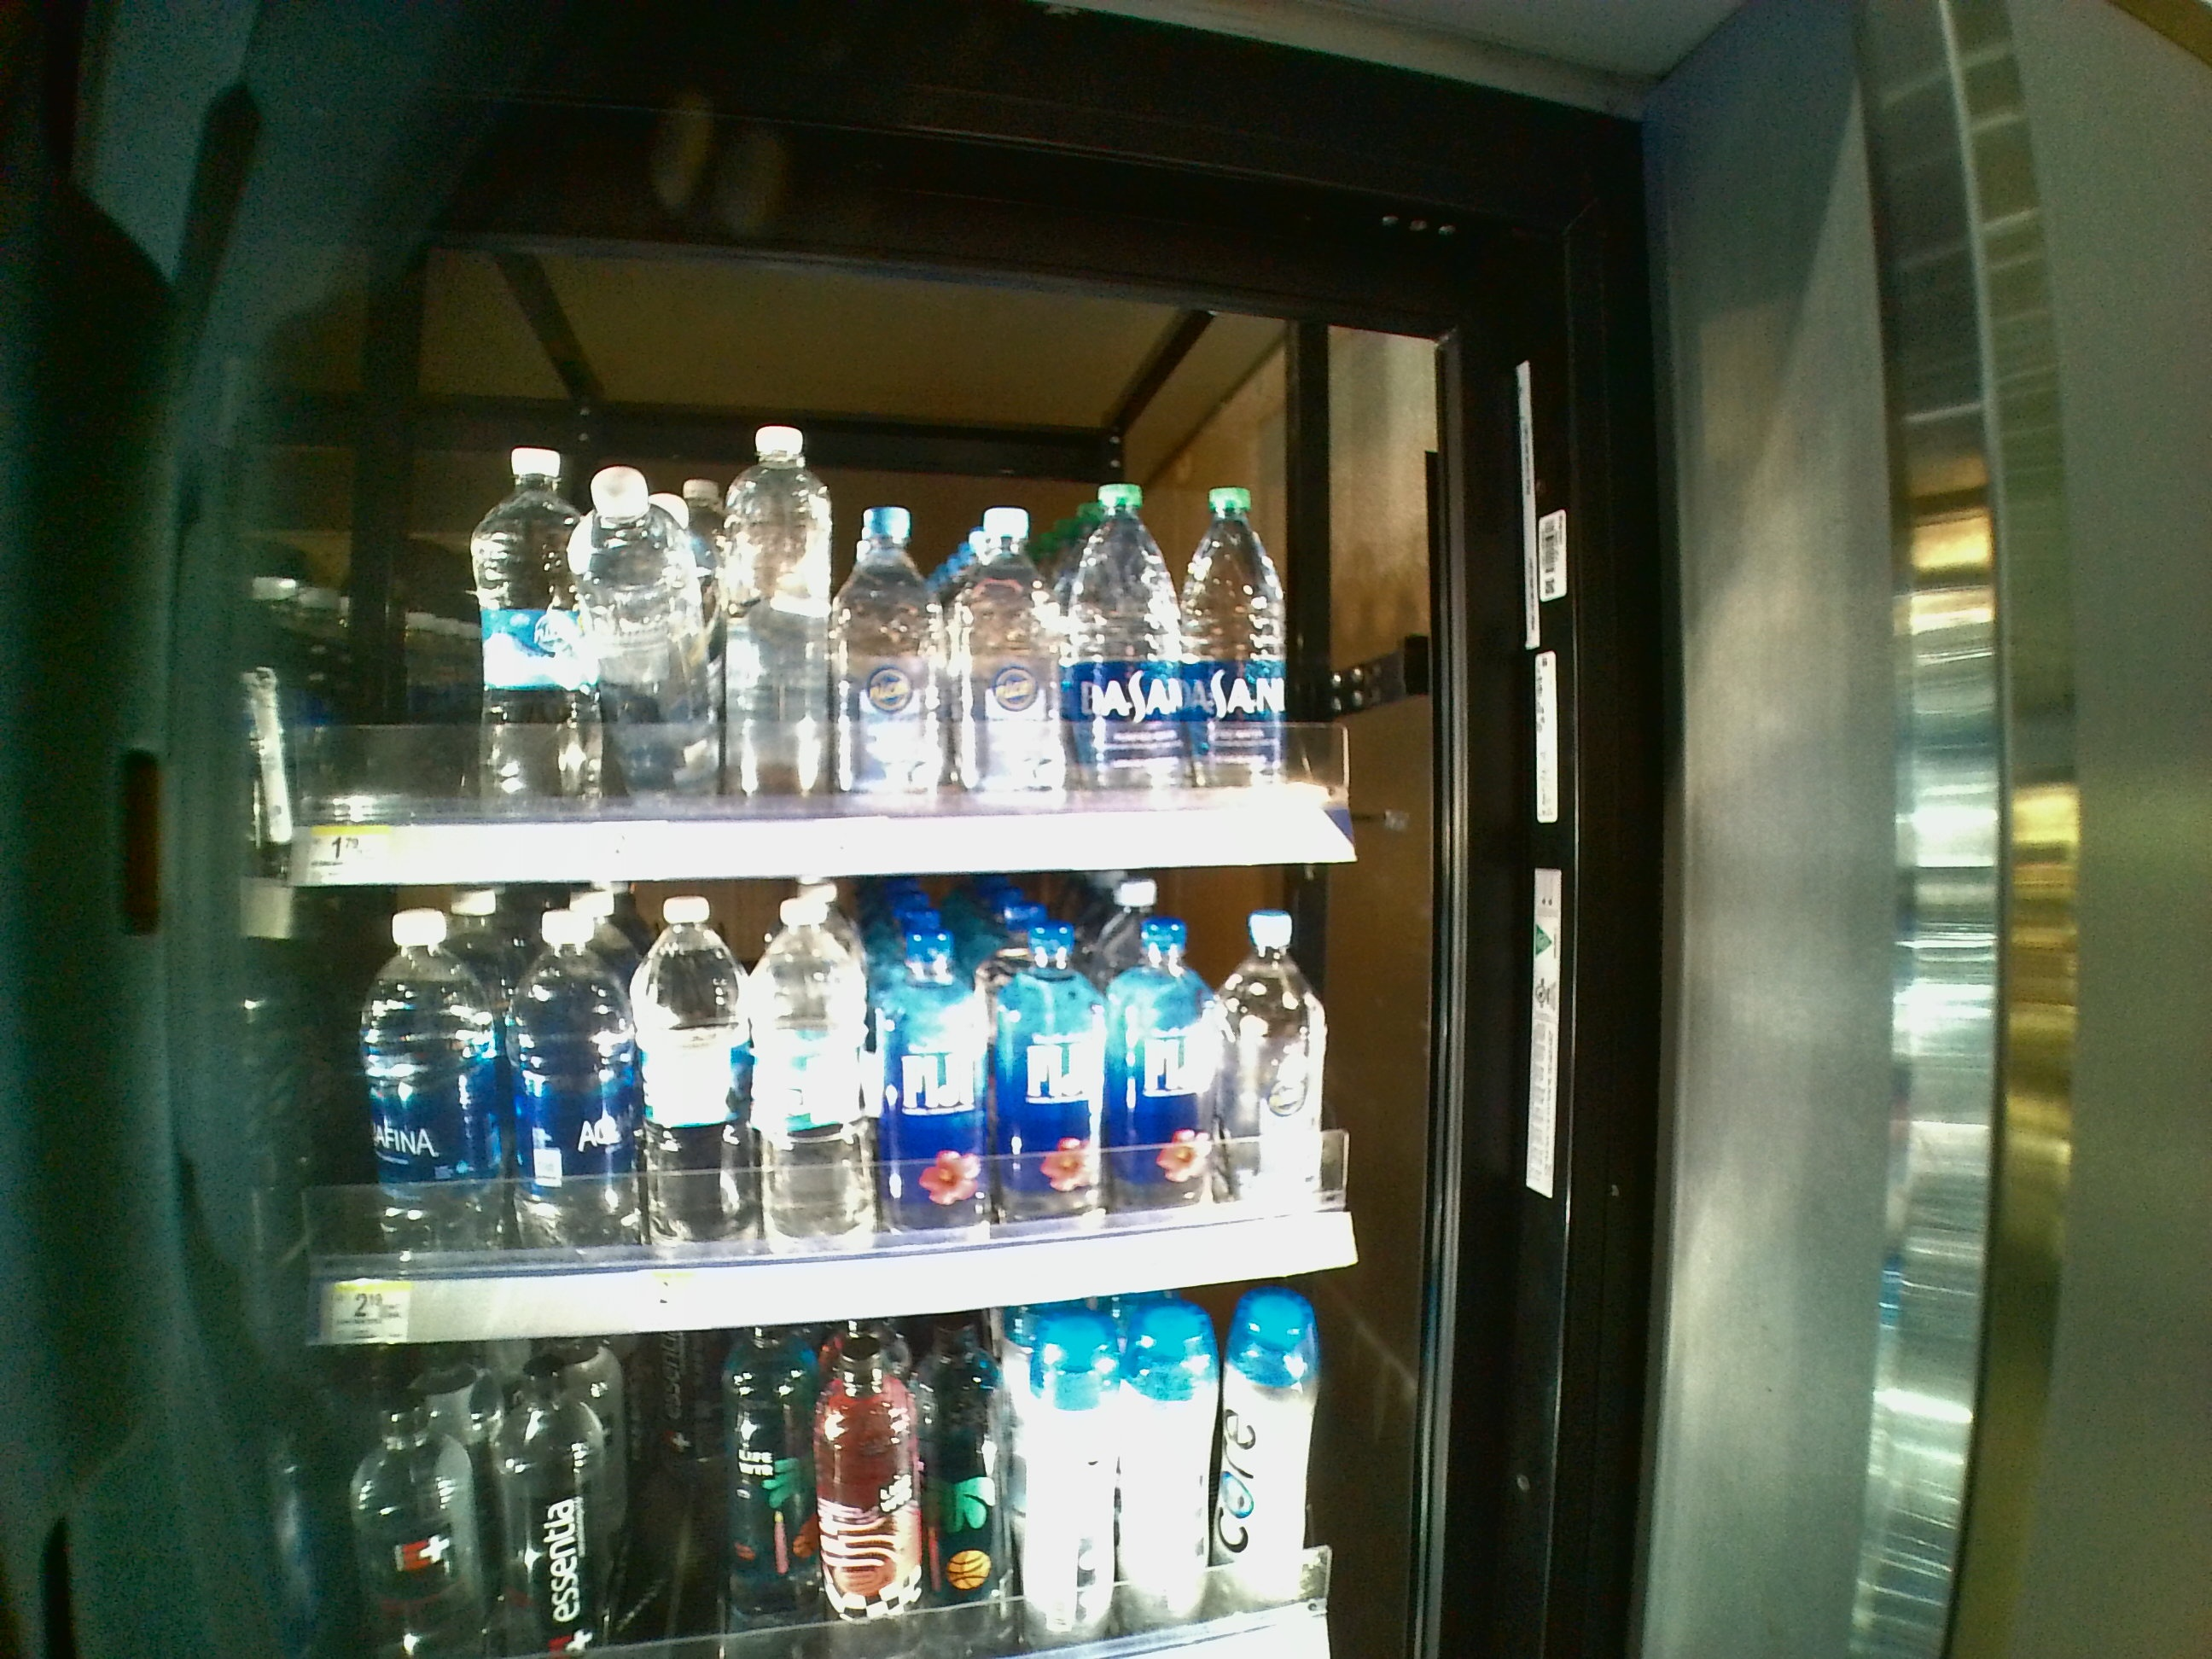shelf: (256, 361, 1374, 887), (251, 889, 1378, 1344)
